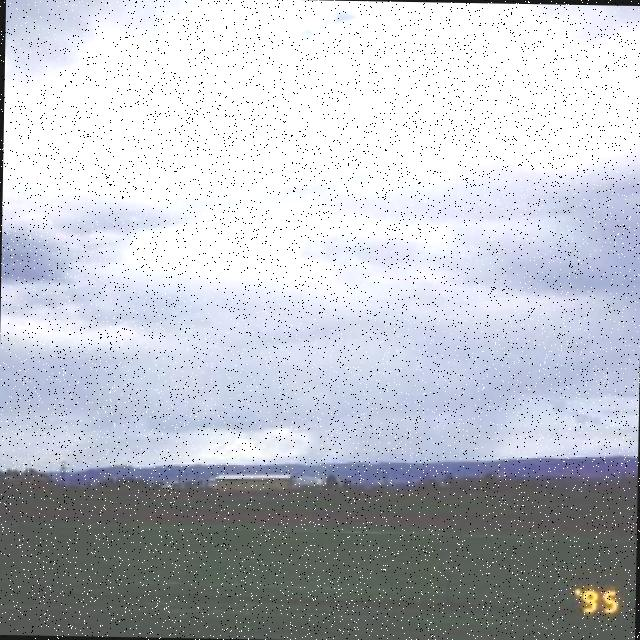Ns: (1, 63, 640, 433)
